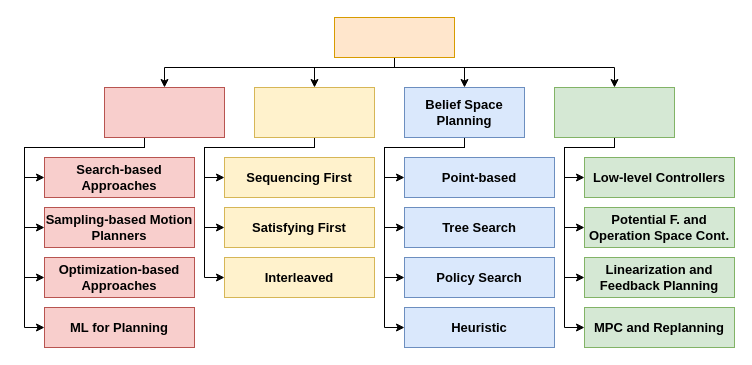
Image size: 752x365. Some labels were removed from this diagram. The shapes that lost their labels are listed below. From the top down, each one's centre as x and y in pixels, then its label:
(x=394, y=37): Explicit Model
(x=164, y=112): Motion Planning
(x=314, y=112): Task and Motion Planning
(x=614, y=112): Control and Feedback-based Planning
